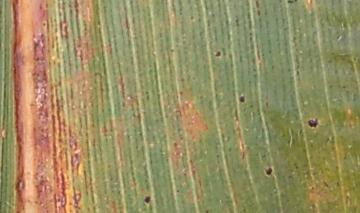tarspot: (306, 116, 319, 129), (232, 13, 242, 28), (263, 165, 274, 177), (143, 194, 152, 206), (321, 178, 331, 188), (143, 88, 151, 100), (213, 49, 222, 58), (238, 93, 245, 104), (253, 1, 262, 9), (255, 9, 263, 18), (177, 76, 187, 83), (174, 187, 182, 195), (188, 12, 195, 21), (177, 88, 184, 97), (43, 1, 50, 9), (247, 102, 255, 109), (38, 1, 43, 12), (172, 140, 178, 149), (286, 1, 299, 5), (168, 47, 175, 54), (41, 21, 48, 27), (13, 1, 20, 6), (203, 209, 210, 213)
